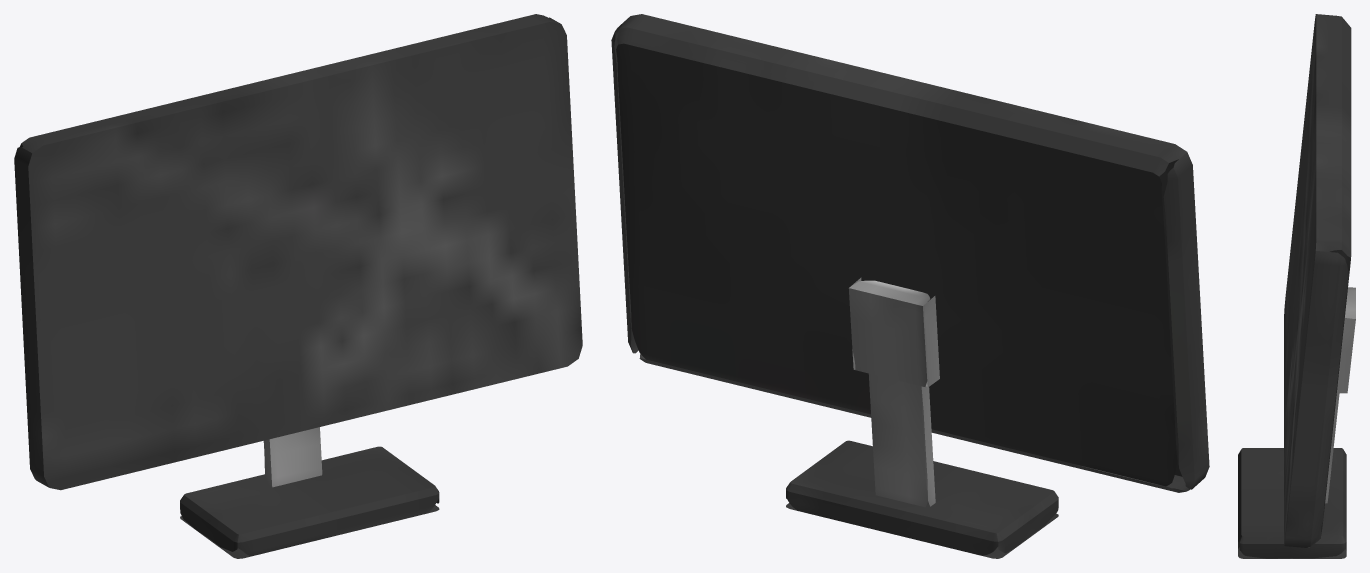
The model's file is computer-monitor.gltf.
3 renders of one model, left to right at view 1: azimuth 30°, elevation 25°; view 2: azimuth 150°, elevation 25°; view 3: azimuth 270°, elevation 25°, orthographic. The views are drawn at different scales.
Visible parts, largest first — view 1: Monitor; view 2: Monitor; view 3: Monitor.
Boxes of the visible parts, x1,y1,x2,y2 form: Monitor: (14, 14, 582, 558); Monitor: (611, 14, 1209, 558); Monitor: (1238, 14, 1355, 558).
Size of the model in its own units: 0.6863 by 0.5115 by 0.142.
Materials: 1 (1 with a texture image).
